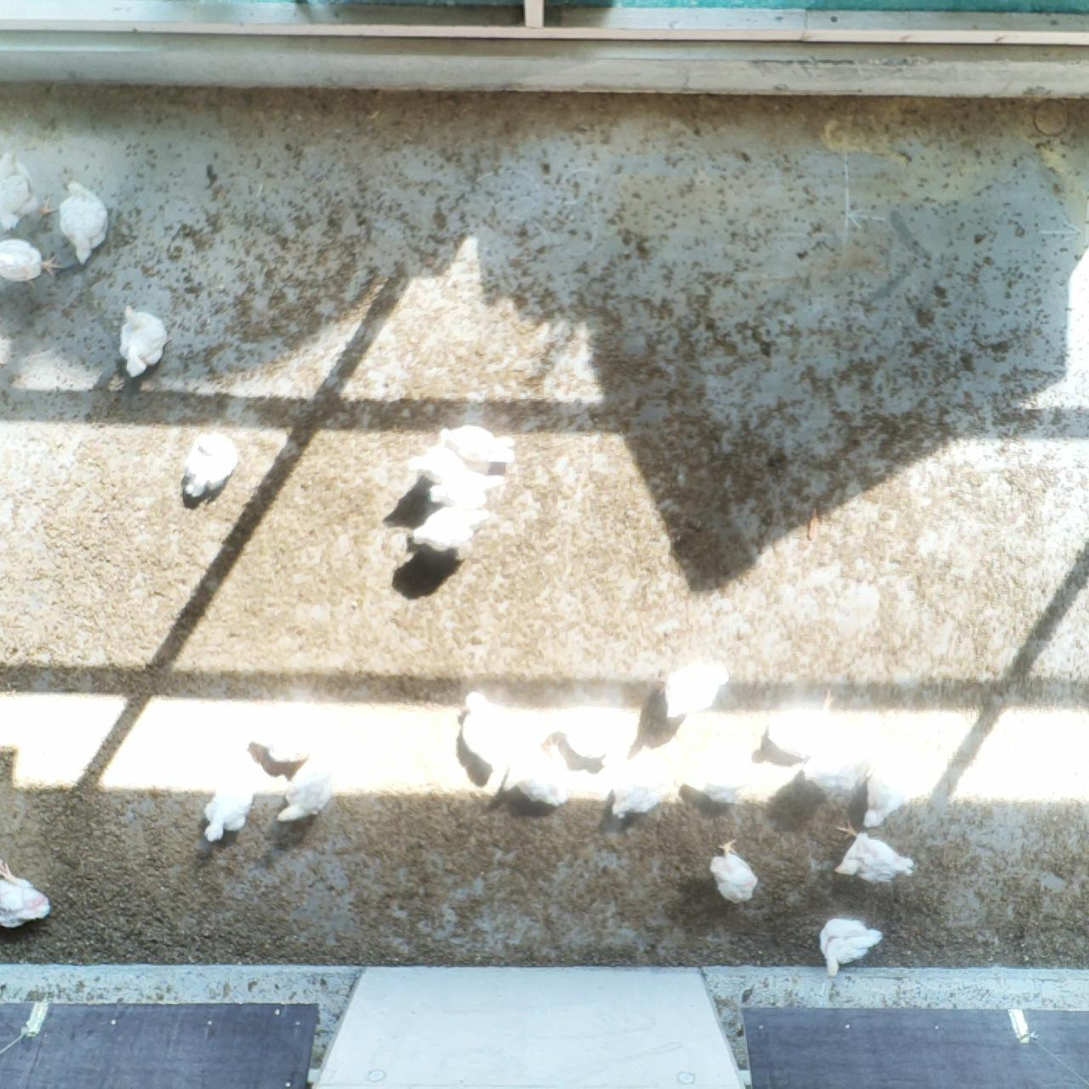chicken: (859, 741, 931, 829), (767, 687, 842, 766), (53, 172, 113, 269), (832, 819, 918, 886), (454, 690, 519, 772), (0, 144, 57, 234), (605, 741, 668, 820), (661, 654, 734, 721), (503, 734, 568, 808), (815, 913, 885, 979), (180, 425, 240, 501), (201, 766, 258, 845), (115, 300, 170, 381), (410, 502, 499, 552), (246, 711, 335, 761), (697, 730, 749, 810), (422, 467, 511, 513), (0, 857, 54, 929), (430, 423, 516, 466), (275, 761, 333, 823), (711, 838, 761, 906), (549, 711, 613, 764), (0, 235, 61, 283), (411, 441, 467, 485)
